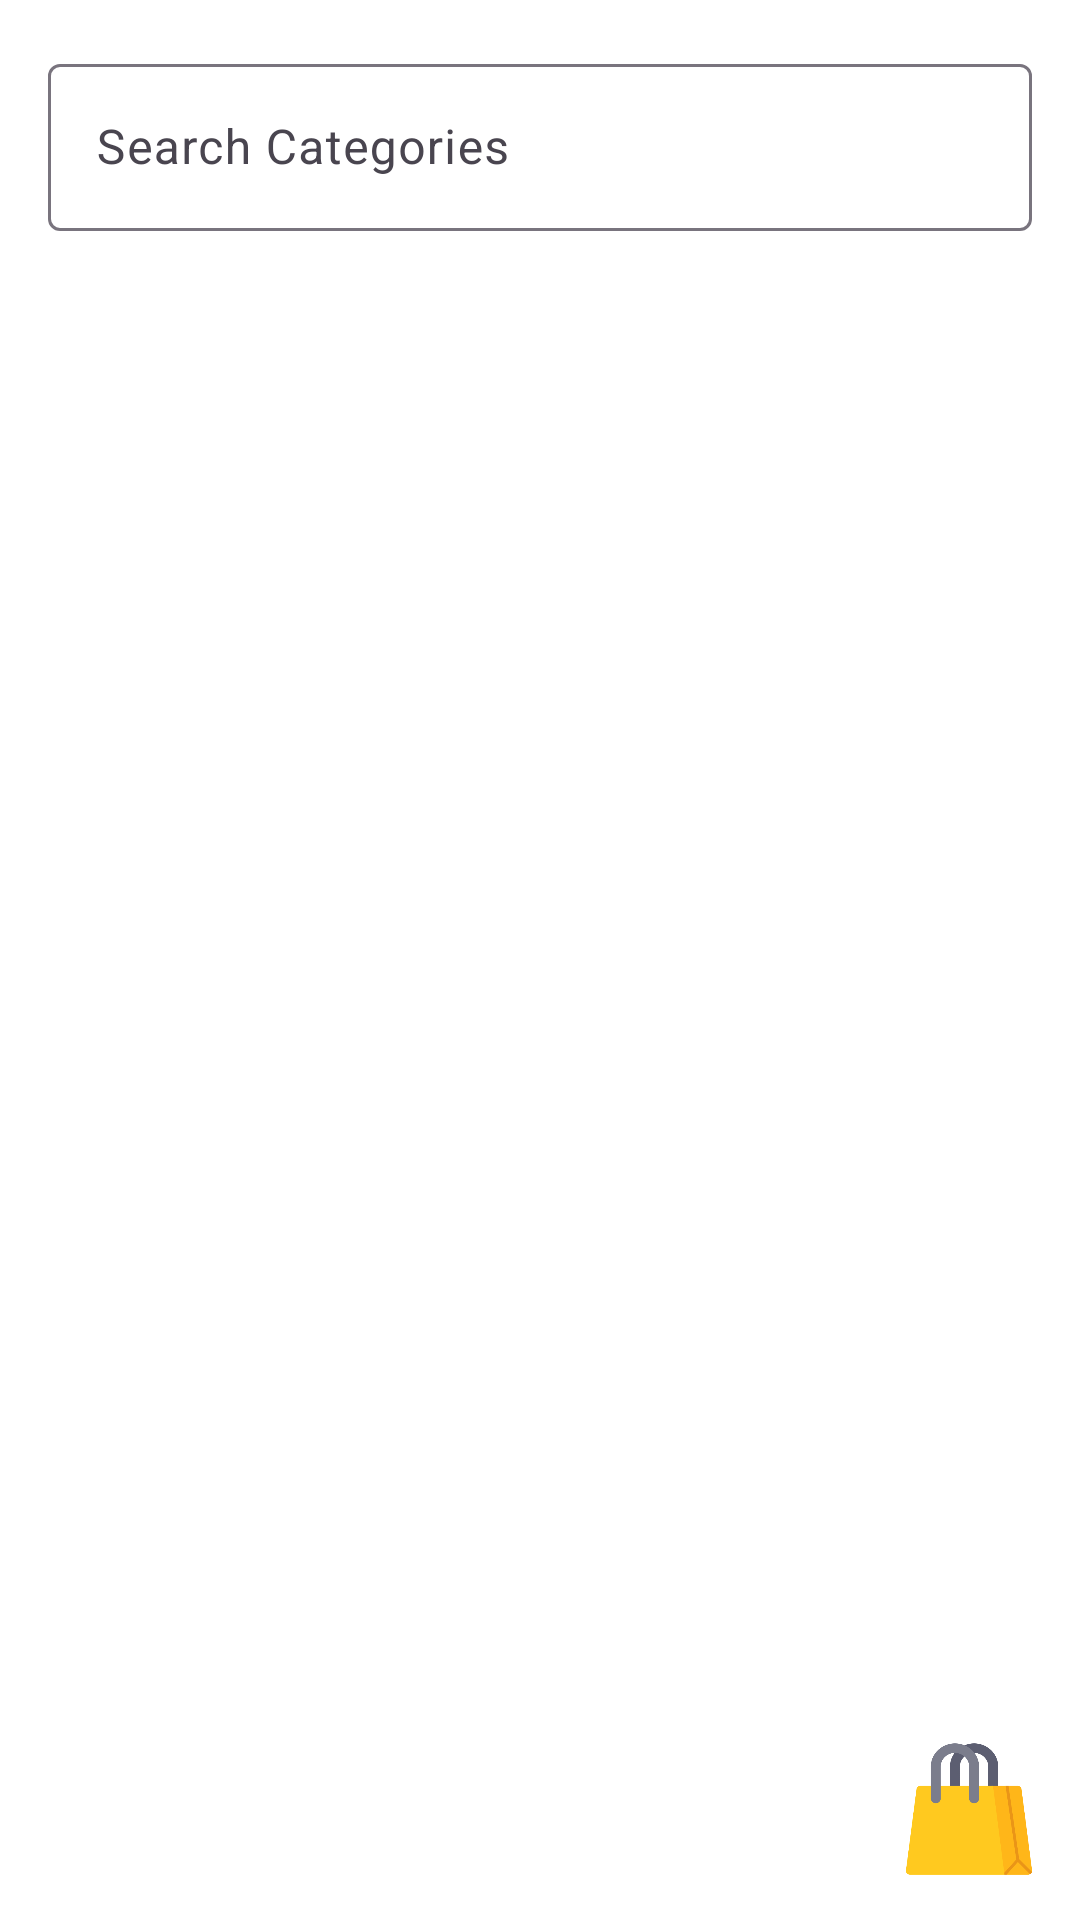

Where icons sit on this 1080×1920 app screen, as [left=x1, top=y1, right=x2, bottom=y2]:
Cart: [left=906, top=1743, right=1032, bottom=1875]
